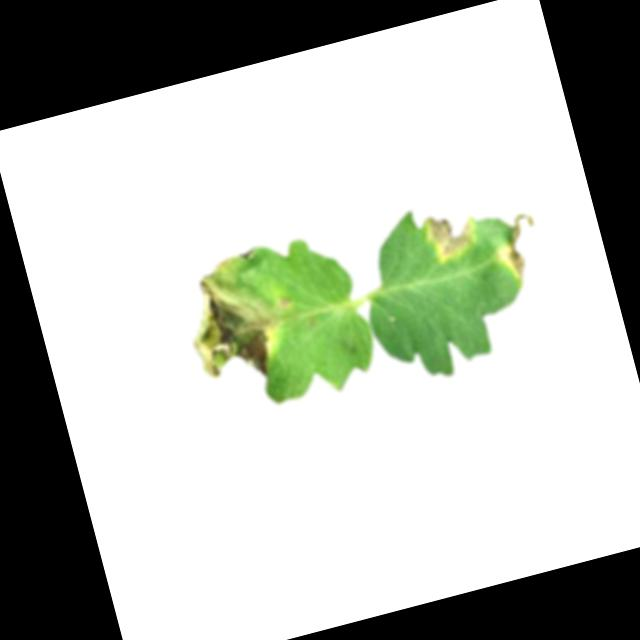Late_blight: (171, 243, 306, 393), (487, 209, 549, 288), (424, 204, 484, 262)
